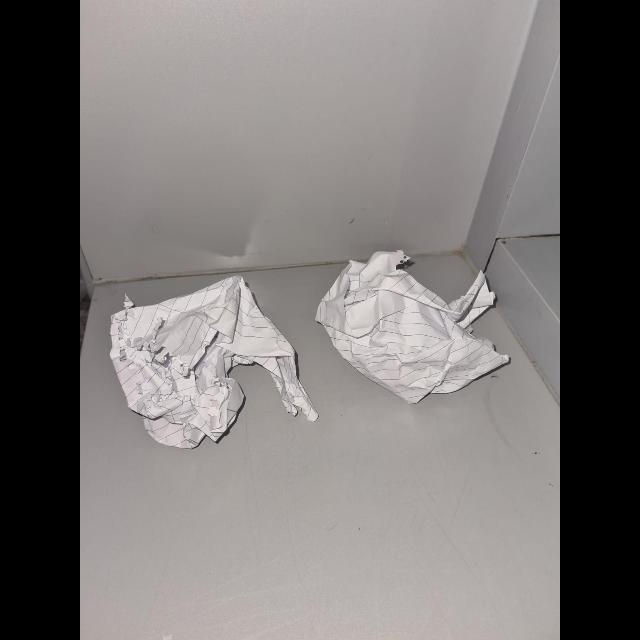scrap_paper: (101, 282, 309, 442), (314, 253, 512, 399)
